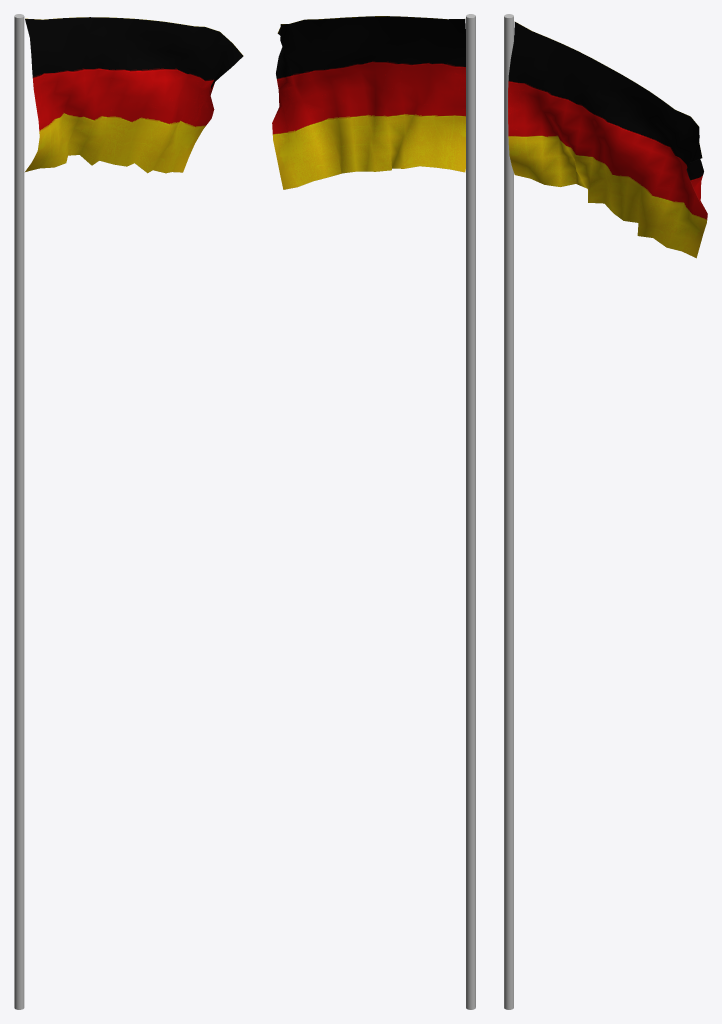
File: FlagPole_Germany.fbx
3 renders of one model, left to right at view 1: azimuth 30°, elevation 25°; view 2: azimuth 150°, elevation 25°; view 3: azimuth 330°, elevation 25°, orthographic.
Visible parts, largest first — view 1: Germany, Pole; view 2: Germany, Pole; view 3: Germany, Pole.
Boxes of the visible parts, left/top/right/bottom form: Germany: left=25, top=17, right=243, bottom=173; Pole: left=14, top=14, right=24, bottom=1009; Germany: left=272, top=16, right=465, bottom=189; Pole: left=466, top=14, right=475, bottom=1009; Germany: left=508, top=21, right=707, bottom=258; Pole: left=504, top=14, right=513, bottom=1009.
Bounding box in the file's own units: 206 × 914 × 46.54.
